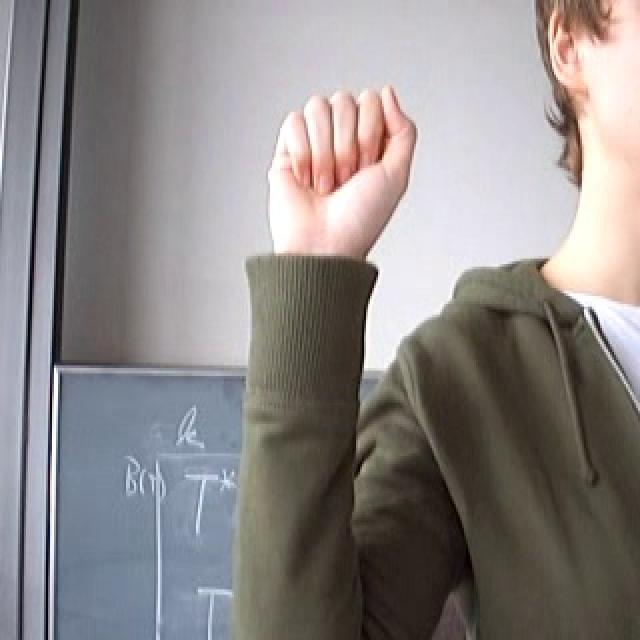A: (236, 59, 437, 319)
